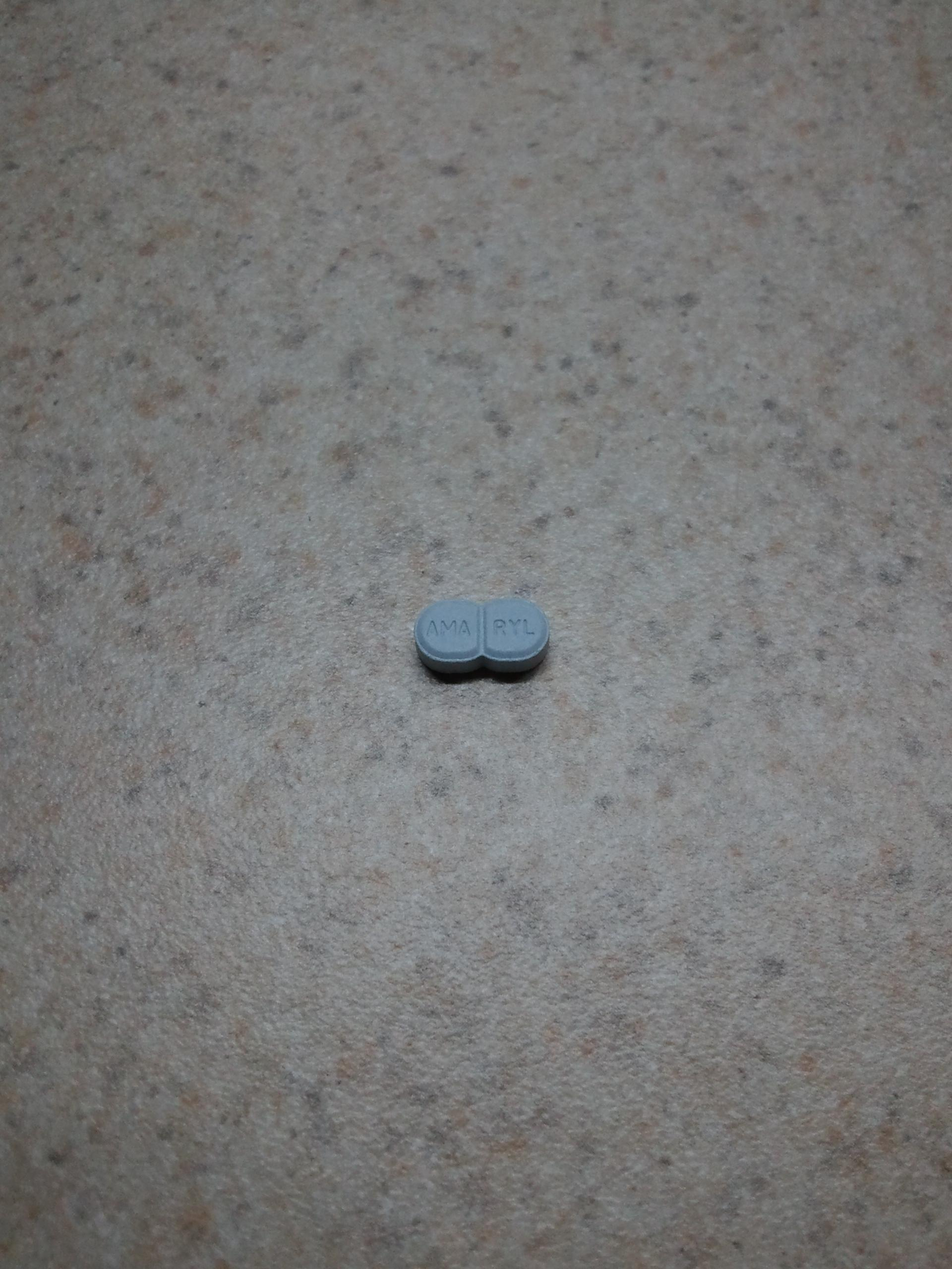Pill: (389, 580, 570, 691)
